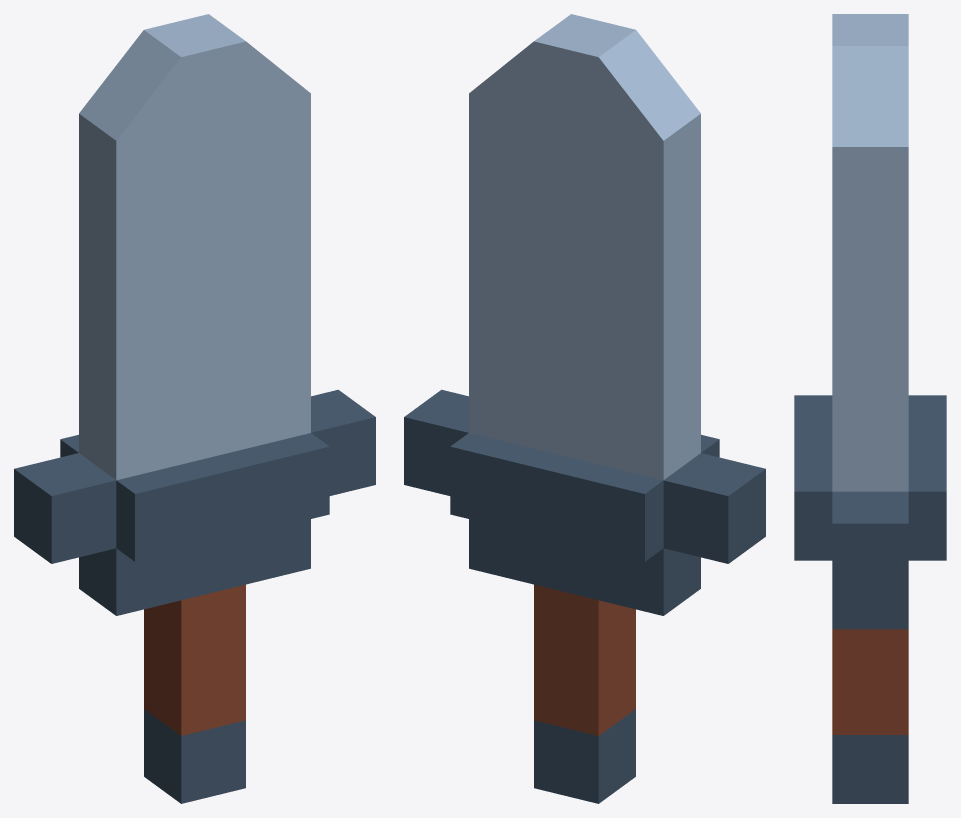
File: dagger.glb
3 renders of one model, left to right at view 1: azimuth 30°, elevation 25°; view 2: azimuth 150°, elevation 25°; view 3: azimuth 270°, elevation 25°, orthographic.
Parts seen in each view (by area): view 1: generated(Clone); view 2: generated(Clone); view 3: generated(Clone).
Boxes of the visible parts, x1,y1,x2,y2 form: generated(Clone): [14, 14, 375, 803]; generated(Clone): [404, 14, 765, 803]; generated(Clone): [794, 14, 946, 803].
Size of the model in its own units: 5 by 11 by 2.
